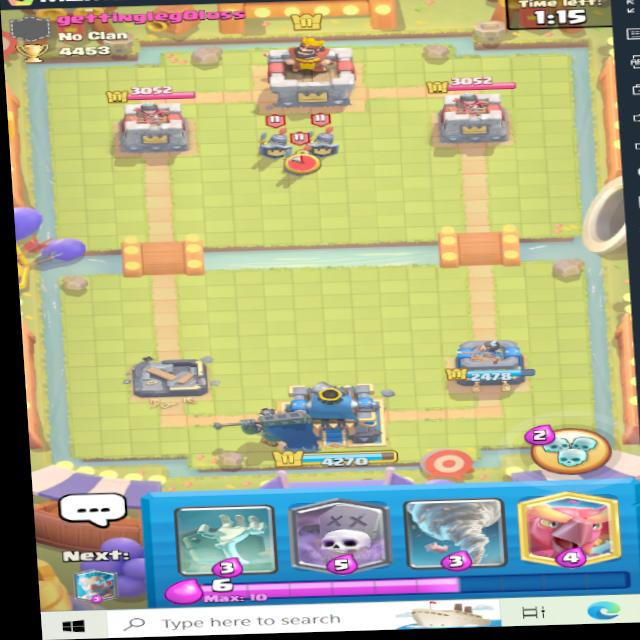guards: (245, 111, 296, 159), (300, 108, 342, 160), (273, 134, 323, 177)
